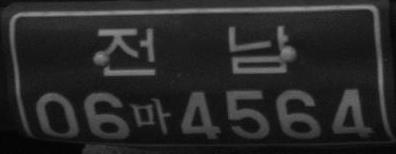0: (33, 91, 80, 140)
4: (330, 87, 373, 139), (179, 90, 221, 140)
5: (224, 88, 271, 140)
6: (274, 87, 322, 141), (82, 90, 131, 141)
마: (132, 96, 171, 134)
전남_D: (97, 24, 289, 76)
